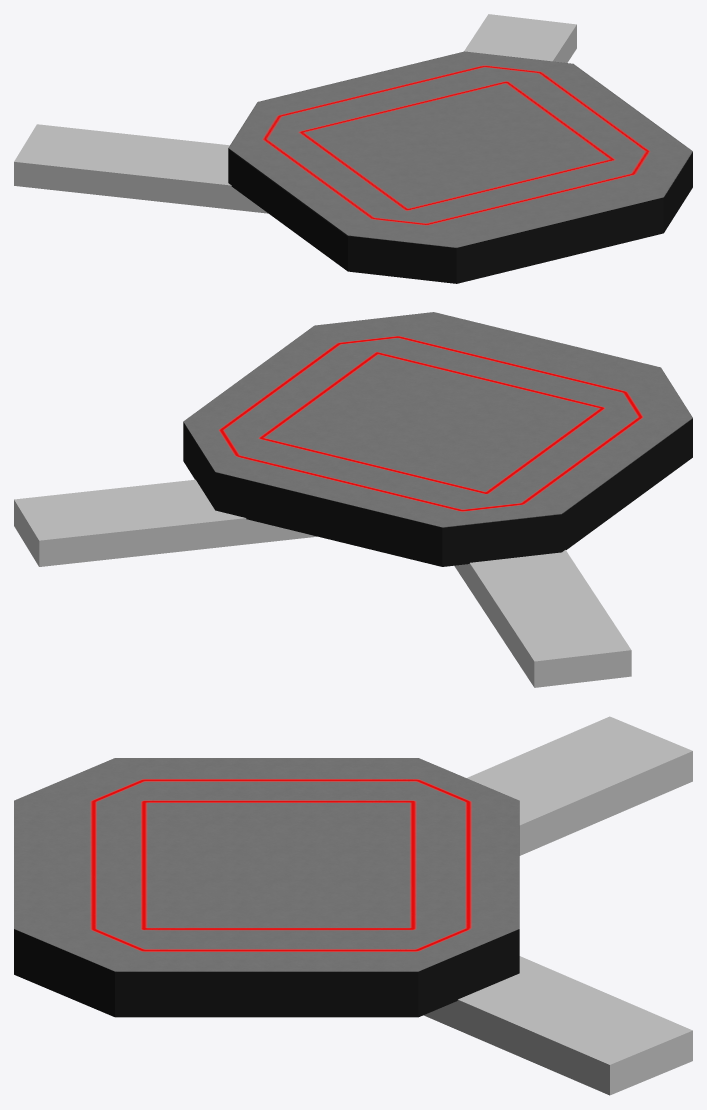
File: Mid Stage.fbx
3 views of the same model, one above another, from view 1: azimuth 30°, elevation 25°; view 2: azimuth 150°, elevation 25°; view 3: azimuth 270°, elevation 25° (orthographic). The views are drawn at different scales.
Parts seen in each view (by area): view 1: MidStage__1_; view 2: MidStage__1_; view 3: MidStage__1_.
Boxes of the visible parts, box(x1,y1,x2,y2) form: MidStage__1_: box(14, 14, 692, 283); MidStage__1_: box(14, 312, 692, 687); MidStage__1_: box(14, 716, 692, 1095).
Bounding box in the file's own units: 2447 × 246 × 2014.
